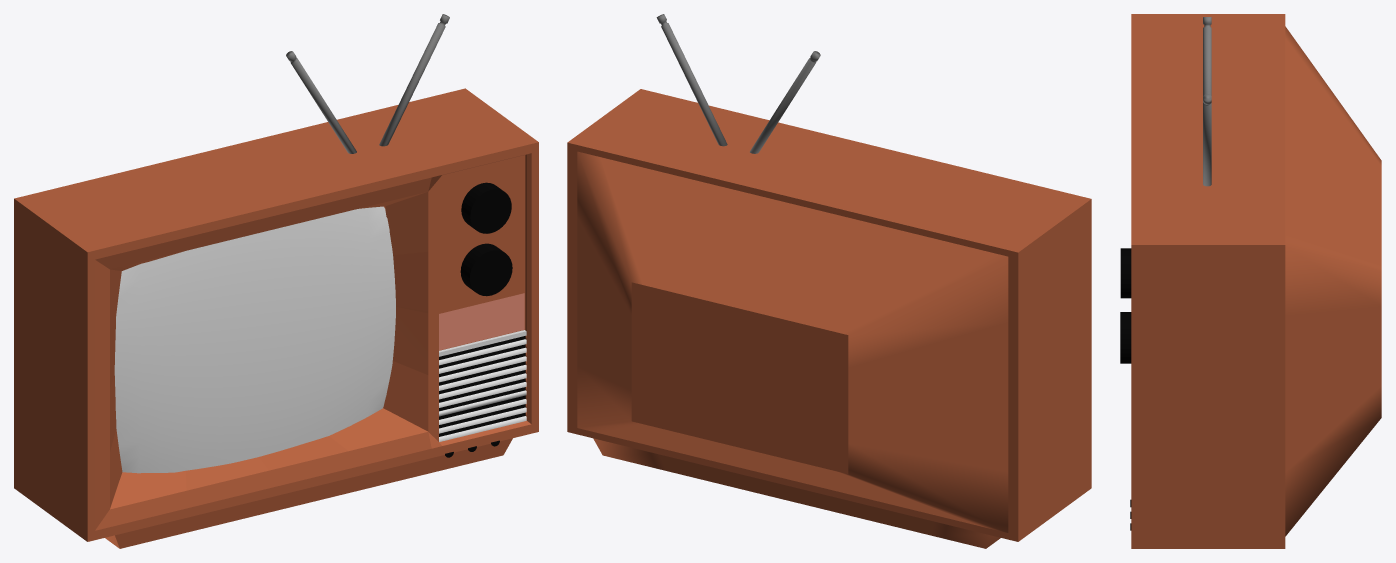
3 views of the same model, side by side, from view 1: azimuth 30°, elevation 25°; view 2: azimuth 150°, elevation 25°; view 3: azimuth 270°, elevation 25° (orthographic). The views are drawn at different scales.
Parts seen in each view (by area): view 1: Cube.003; view 2: Cube.003; view 3: Cube.003.
Part boxes in pixels (bbox=[...]): Cube.003: bbox=[14, 14, 538, 548]; Cube.003: bbox=[567, 14, 1091, 548]; Cube.003: bbox=[1120, 14, 1381, 548].
Bounding box in the file's own units: 500 × 446 × 239.
